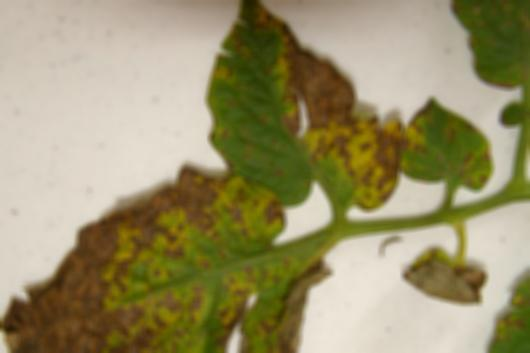Tomato Septoria leaf spot: (0, 168, 291, 353), (198, 0, 417, 221), (226, 258, 349, 353), (447, 0, 530, 136), (394, 90, 492, 198), (467, 243, 530, 353)
